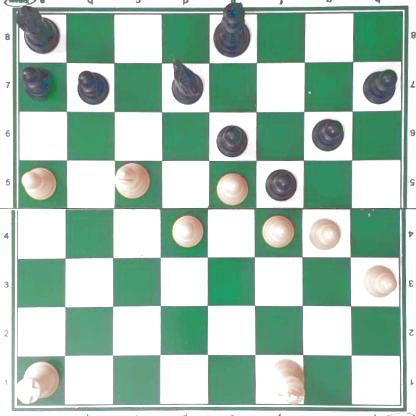black-king: (211, 1, 250, 57)
black-knight: (168, 58, 202, 104)
black-pawn: (17, 62, 56, 100), (362, 67, 398, 105), (76, 67, 110, 105), (213, 121, 247, 157), (311, 115, 344, 150), (265, 166, 297, 201)
black-rook: (13, 3, 60, 55)
white-bishop: (115, 163, 150, 199)
white-king: (264, 356, 303, 403)
white-pawn: (360, 262, 397, 299), (20, 166, 56, 200), (306, 215, 340, 250), (212, 170, 248, 203), (260, 213, 293, 247), (169, 214, 202, 246)
white-rook: (13, 359, 59, 402)
